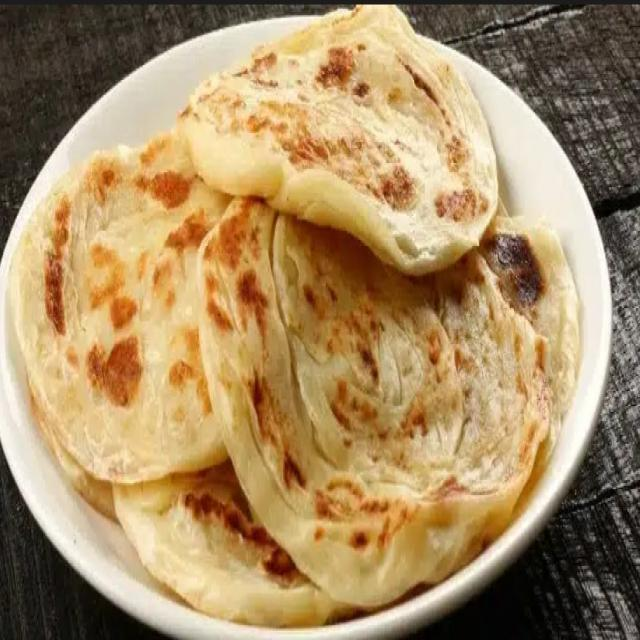PAROTTA: (7, 1, 584, 632)
